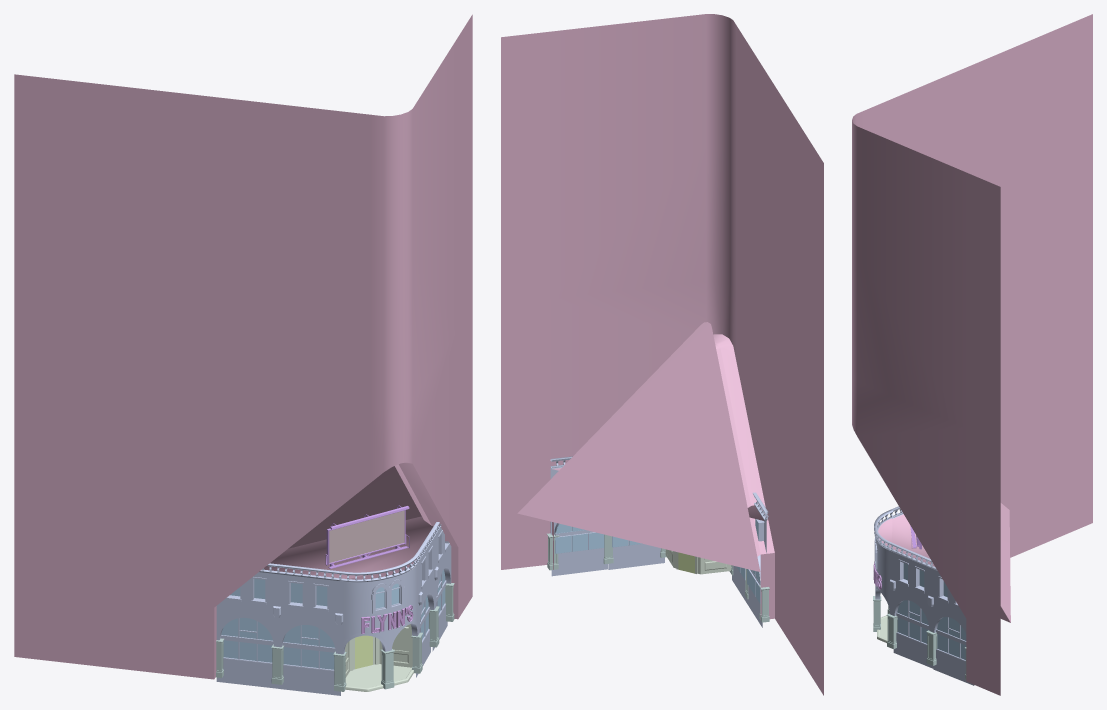
The model's file is Flynns.fbx.
3 views of the same model, side by side, from view 1: azimuth 30°, elevation 25°; view 2: azimuth 150°, elevation 25°; view 3: azimuth 270°, elevation 25° (orthographic). The views are drawn at different scales.
Visible parts, largest first — view 1: Flynns.smd; view 2: Flynns.smd; view 3: Flynns.smd.
Part boxes in pixels (x1,y1,x2,y2): Flynns.smd: [14, 14, 472, 695]; Flynns.smd: [501, 14, 823, 695]; Flynns.smd: [852, 14, 1092, 695].
Size of the model in its own units: 2593 by 3609 by 1526.
